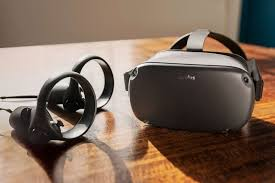oculus: (123, 47, 258, 133)
